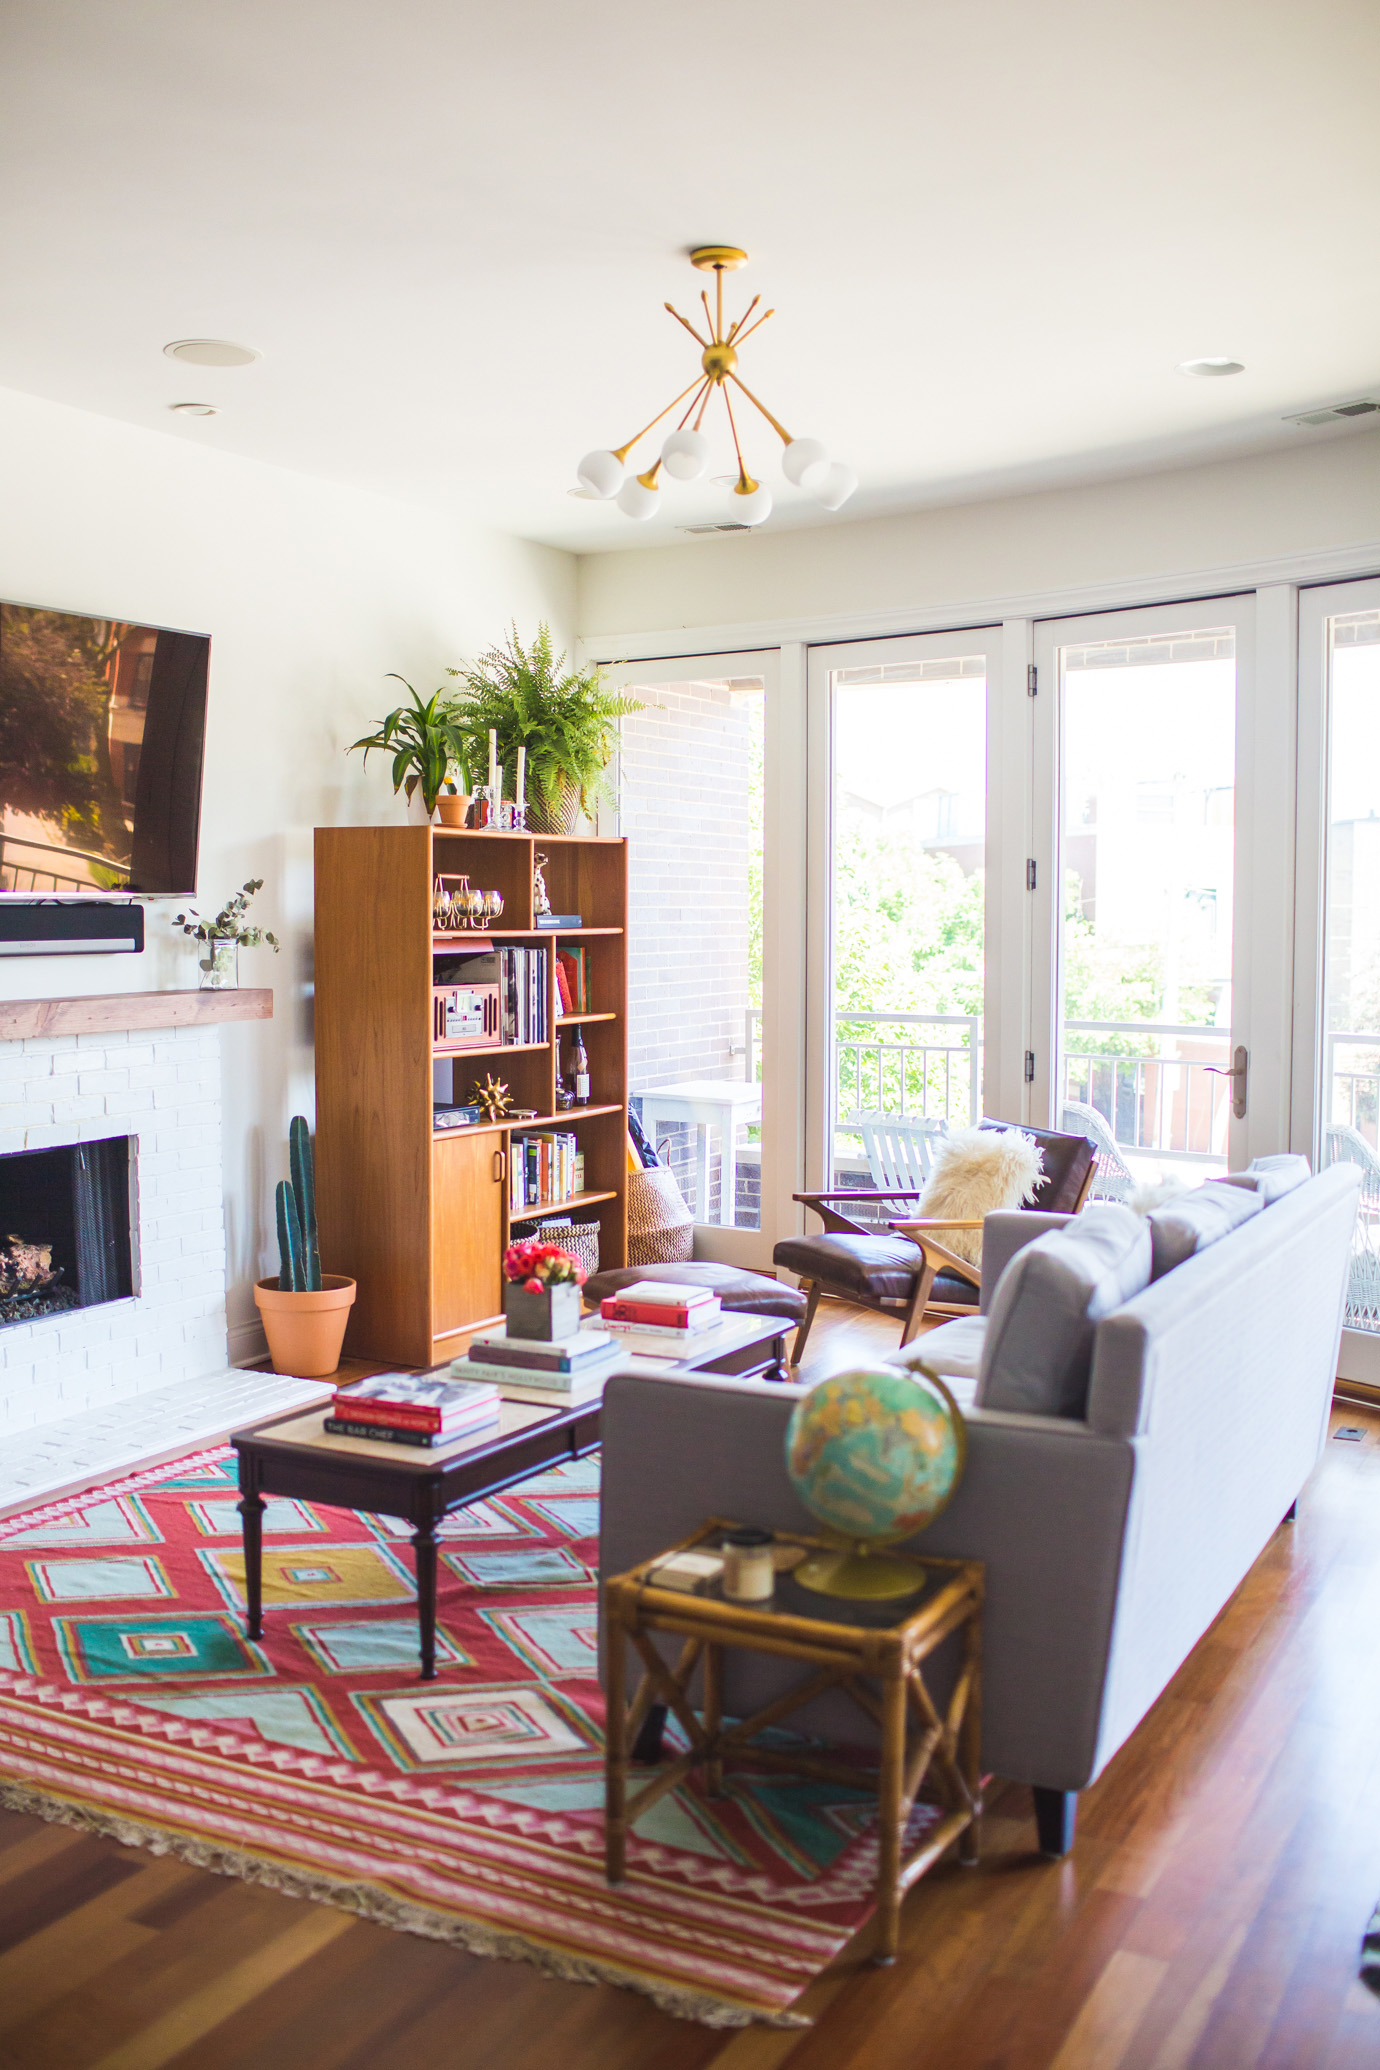merah: (336, 1385, 451, 1429)
putih: (924, 1140, 1033, 1211)
